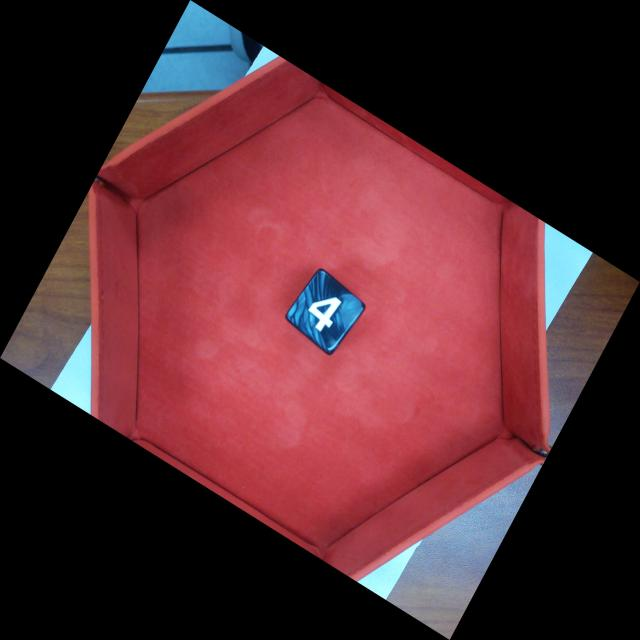dice: (291, 269, 369, 353)
